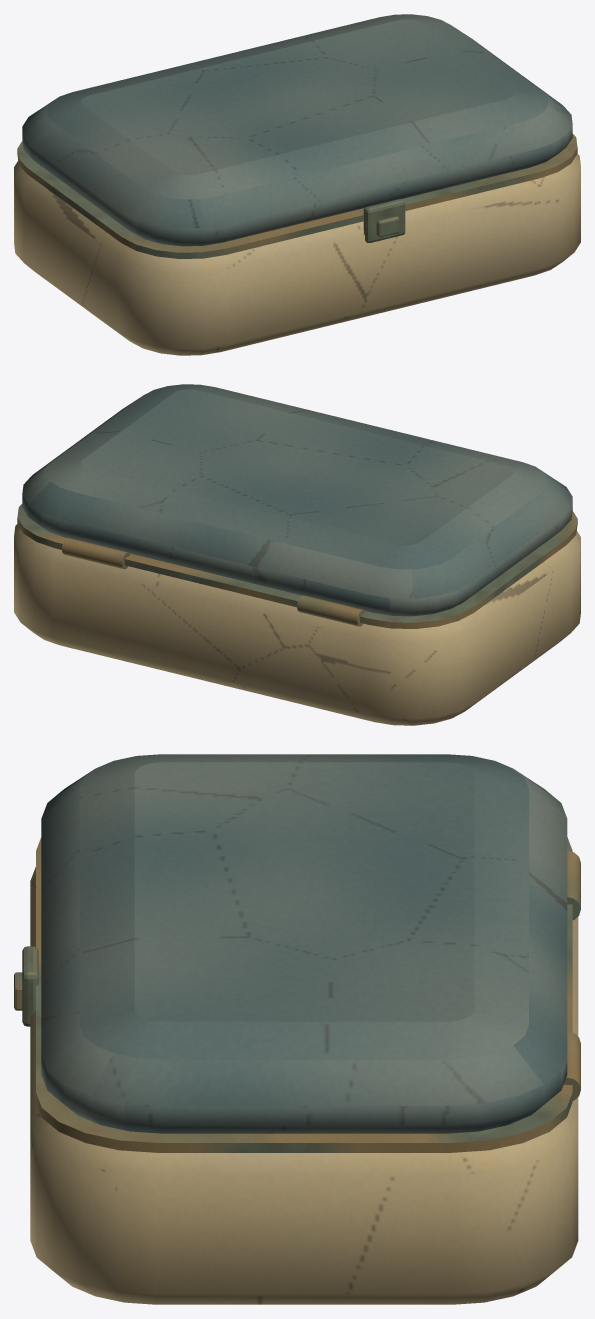
File: jewellery_box_aged.glb
3 renders of one model, top to bottom at view 1: azimuth 30°, elevation 25°; view 2: azimuth 150°, elevation 25°; view 3: azimuth 270°, elevation 25°, orthographic. The views are drawn at different scales.
Parts seen in each view (by area): view 1: Lid, Body, BrassRim, Clasp; view 2: Lid, Body, BrassRim, Hinge_0, Hinge_1; view 3: Lid, Body, BrassRim, Clasp, Hinge_1, Hinge_0.
Part boxes in pixels (box(x1,y1,x2,y2)): Lid: box(22, 14, 572, 246); Body: box(14, 154, 580, 355); BrassRim: box(17, 134, 577, 258); Clasp: box(363, 199, 405, 242); Lid: box(22, 384, 572, 616); Body: box(14, 524, 580, 725); BrassRim: box(17, 504, 577, 628); Hinge_0: box(297, 595, 365, 626); Hinge_1: box(61, 537, 130, 569); Lid: box(41, 754, 567, 1133); Body: box(30, 867, 578, 1304); BrassRim: box(36, 837, 572, 1152); Clasp: box(22, 946, 38, 1026); Hinge_1: box(563, 1031, 580, 1100); Hinge_0: box(567, 850, 580, 920).
Size of the model in its own units: 0.15 by 0.05 by 0.1035.
Materials: 3 (3 with a texture image).
